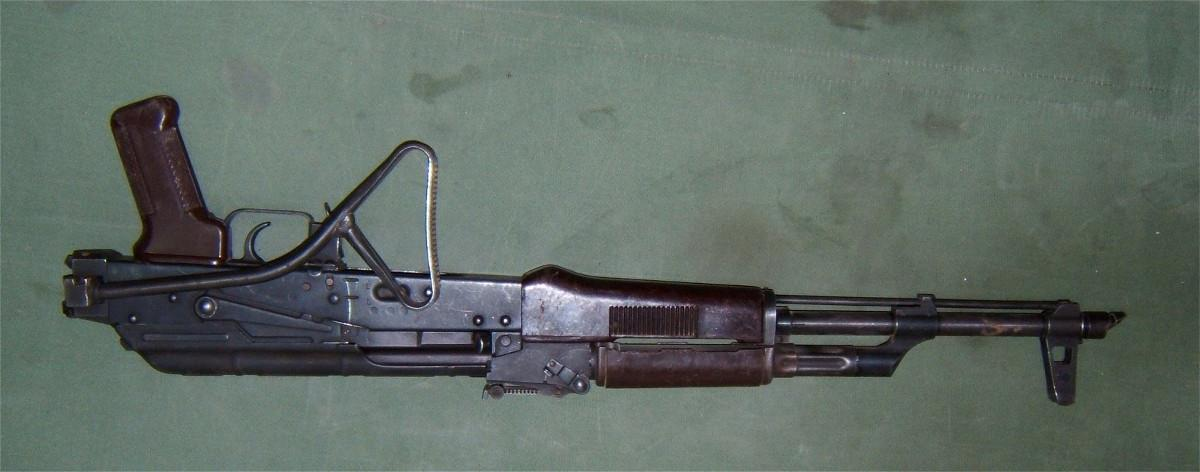larga: (59, 92, 1131, 409)
